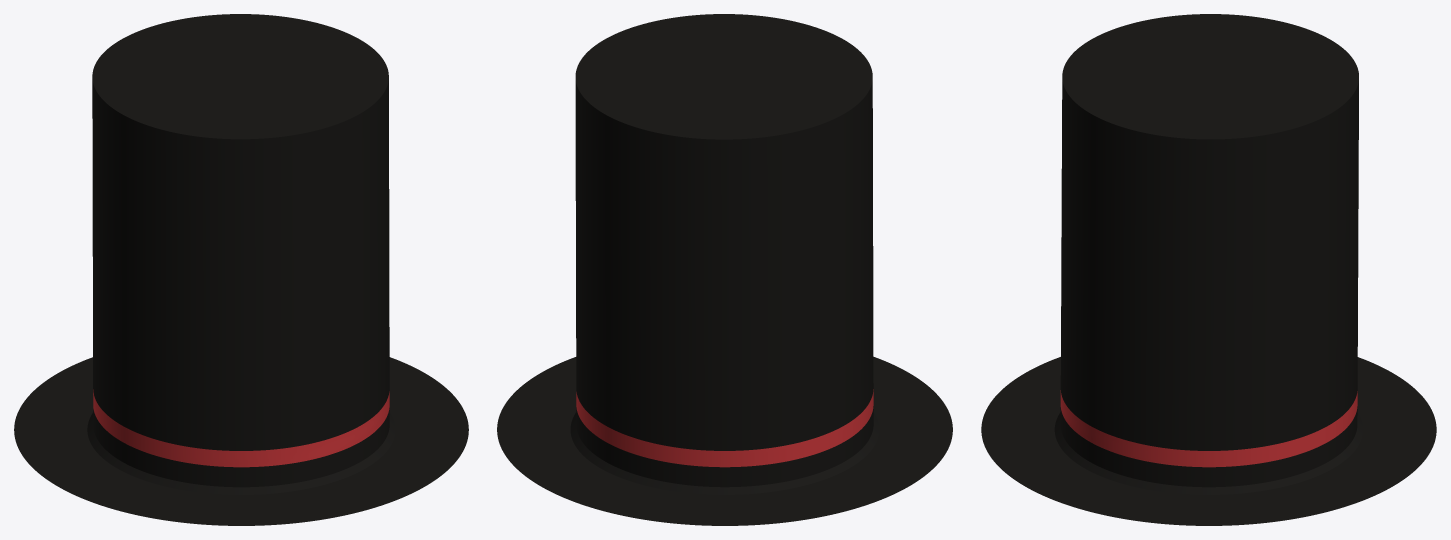
File: hat.glb
The picture shows the model from 3 angles, left to right: view 1: azimuth 30°, elevation 25°; view 2: azimuth 150°, elevation 25°; view 3: azimuth 270°, elevation 25°; orthographic projection.
Visible parts, largest first — view 1: Circle_0; view 2: Circle_0; view 3: Circle_0.
Boxes of the visible parts, x1,y1,x2,y2 form: Circle_0: (14, 14, 468, 525); Circle_0: (497, 14, 952, 525); Circle_0: (981, 14, 1436, 525).
Bounding box in the file's own units: 12.53 × 10.72 × 12.53.
Materials: 1 (1 with a texture image).
